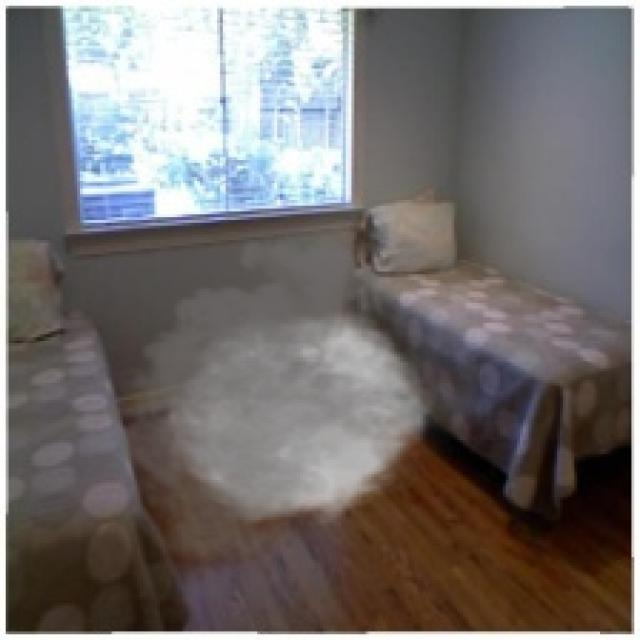smoke: (88, 217, 503, 574)
